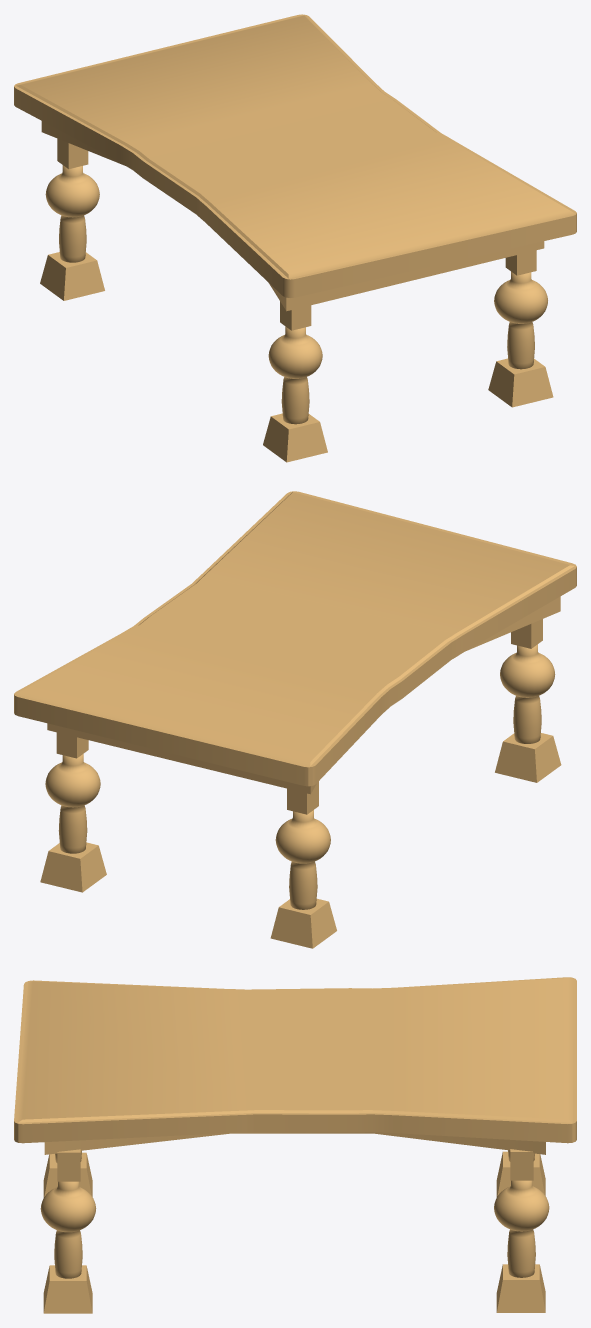
File: Mesa.fbx
The picture shows the model from 3 angles, top to bottom: view 1: azimuth 30°, elevation 25°; view 2: azimuth 150°, elevation 25°; view 3: azimuth 270°, elevation 25°; orthographic projection. The views are drawn at different scales.
Visible parts, largest first — view 1: Pata4.002; view 2: Pata4.002; view 3: Pata4.002.
Boxes of the visible parts, <box> form: Pata4.002: <box>14,14,576,462</box>; Pata4.002: <box>14,491,576,948</box>; Pata4.002: <box>14,977,576,1313</box>.
Size of the model in its own units: 605 by 379 by 980.
